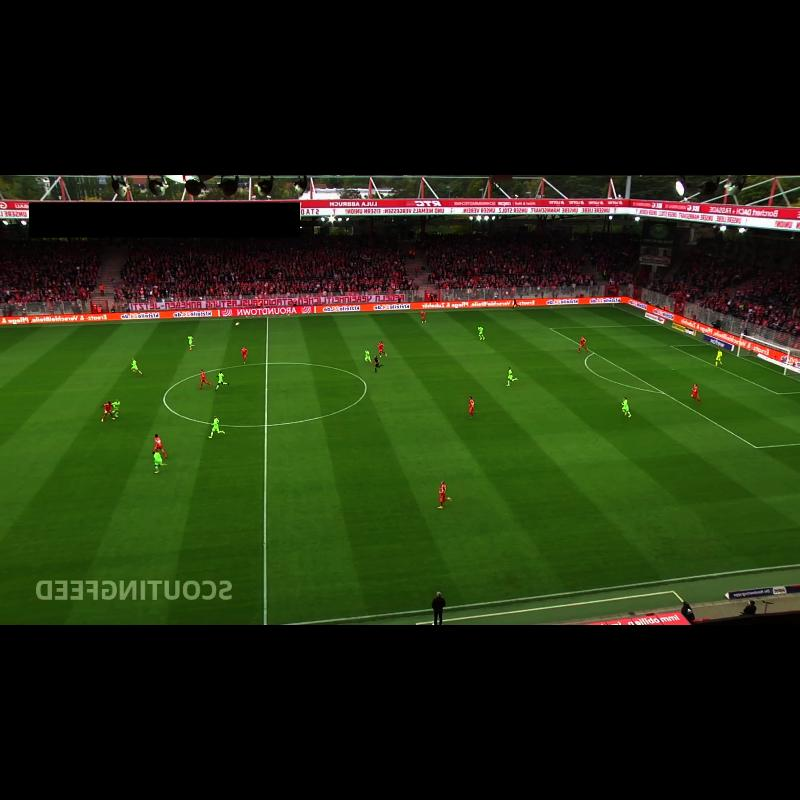cross_recipient_zone: (550, 325, 800, 447)
crossing_player_zone: (630, 444, 800, 569), (444, 306, 659, 331), (0, 325, 81, 350)
pitch: (0, 306, 800, 625)
